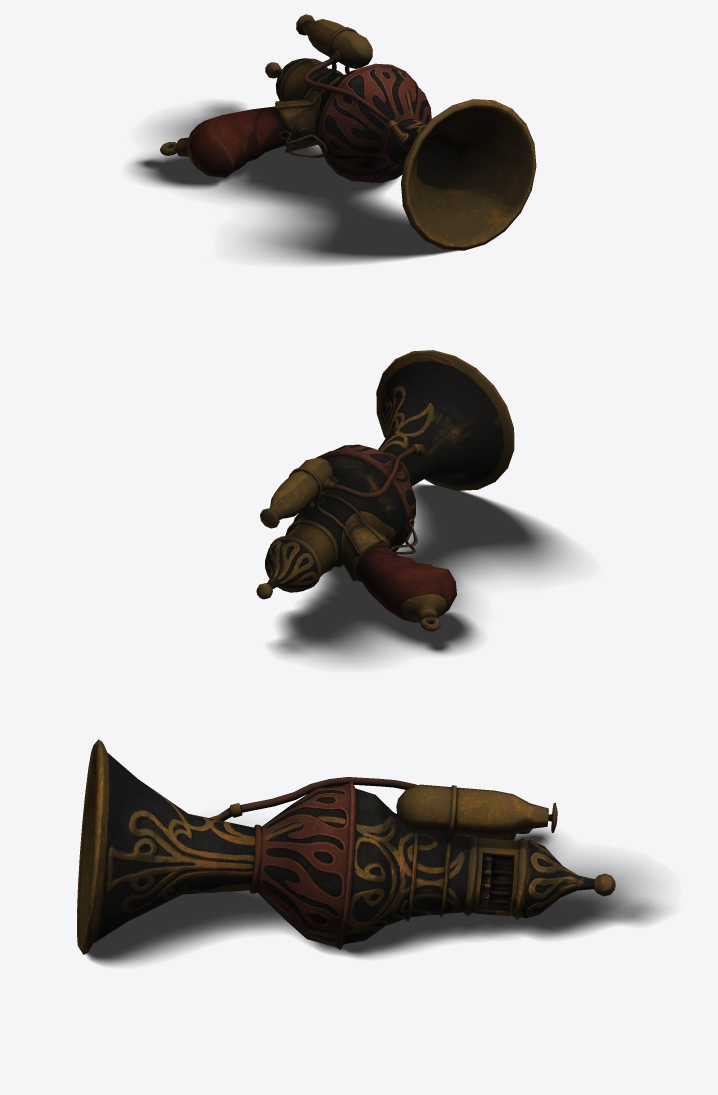
3 views of the same model, one above another, from view 1: azimuth 30°, elevation 25°; view 2: azimuth 150°, elevation 25°; view 3: azimuth 270°, elevation 25° (orthographic). The views are drawn at different scales.
Parts seen in each view (by area): view 1: arma, Plane; view 2: arma, Plane; view 3: arma, Plane.
Part boxes in pixels (box(x1,y1,x2,y2)): arma: box(160, 14, 536, 250); Plane: box(131, 102, 496, 264); arma: box(256, 350, 514, 631); Plane: box(271, 484, 572, 663); arma: box(77, 739, 615, 954); Plane: box(86, 828, 663, 965).
Size of the model in its own units: 6.47 by 2.01 by 6.47.
Materials: 2 (2 with a texture image).
